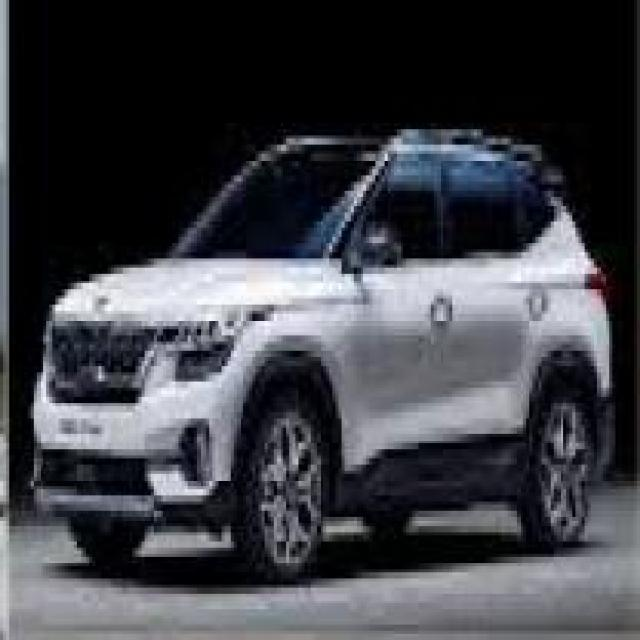car: (27, 52, 636, 603)
